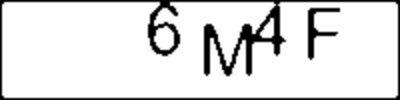4: (251, 1, 289, 58)
6: (146, 1, 183, 59)
F: (302, 3, 346, 65)
M: (199, 22, 258, 80)
